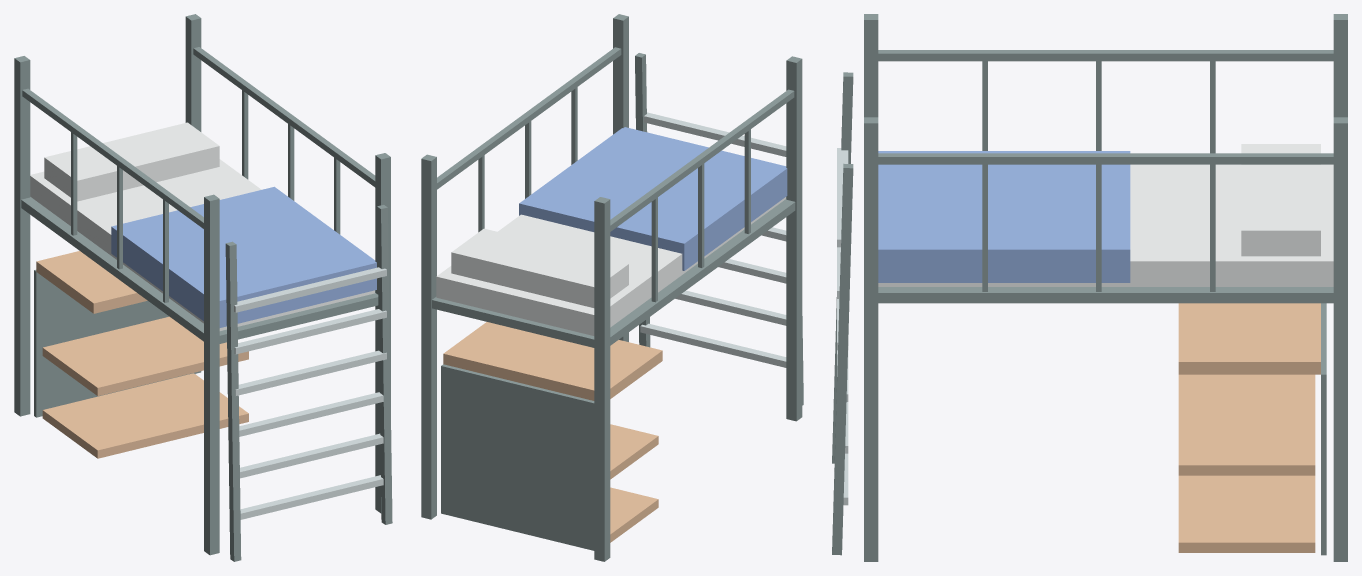
The model's file is bedLoftMetal.glb.
3 renders of one model, left to right at view 1: azimuth 30°, elevation 25°; view 2: azimuth 150°, elevation 25°; view 3: azimuth 270°, elevation 25°, orthographic. The views are drawn at different scales.
Visible parts, largest first — view 1: bedLoftMetal; view 2: bedLoftMetal; view 3: bedLoftMetal.
Boxes of the visible parts, x1,y1,x2,y2 form: bedLoftMetal: (14, 14, 392, 561); bedLoftMetal: (421, 14, 803, 561); bedLoftMetal: (832, 14, 1347, 561).
Size of the model in its own units: 0.455 by 0.8502 by 0.9062.
